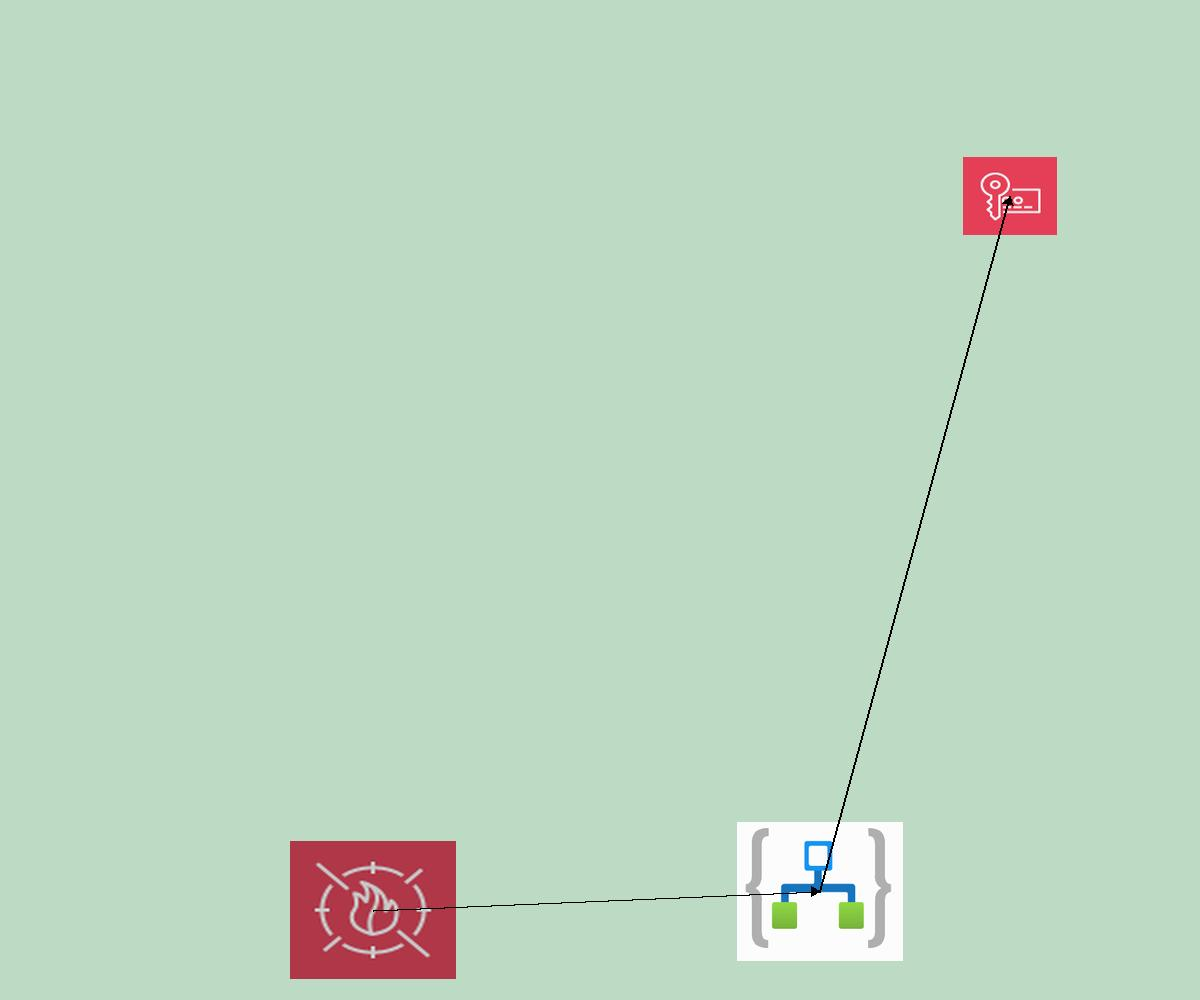AWS-Key-Management-Service: (963, 157, 1057, 235)
AWS-WAF: (290, 841, 456, 979)
Azure_integration-204-Logic-Apps: (737, 822, 903, 961)
